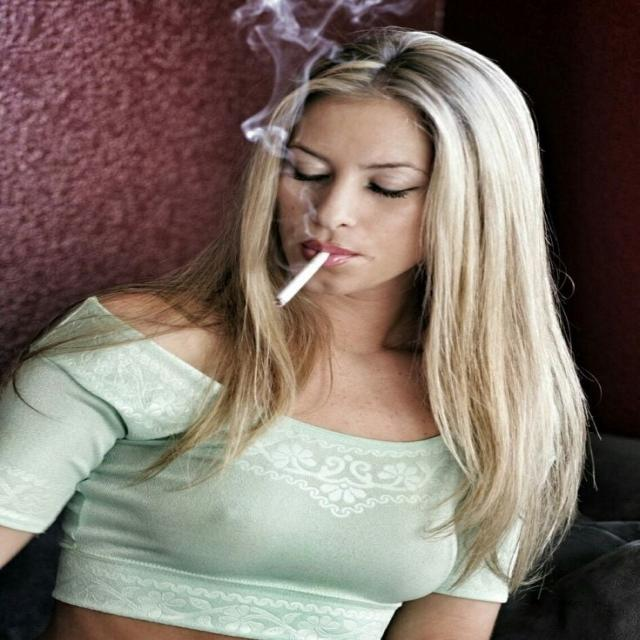cigarette: (268, 249, 334, 322)
